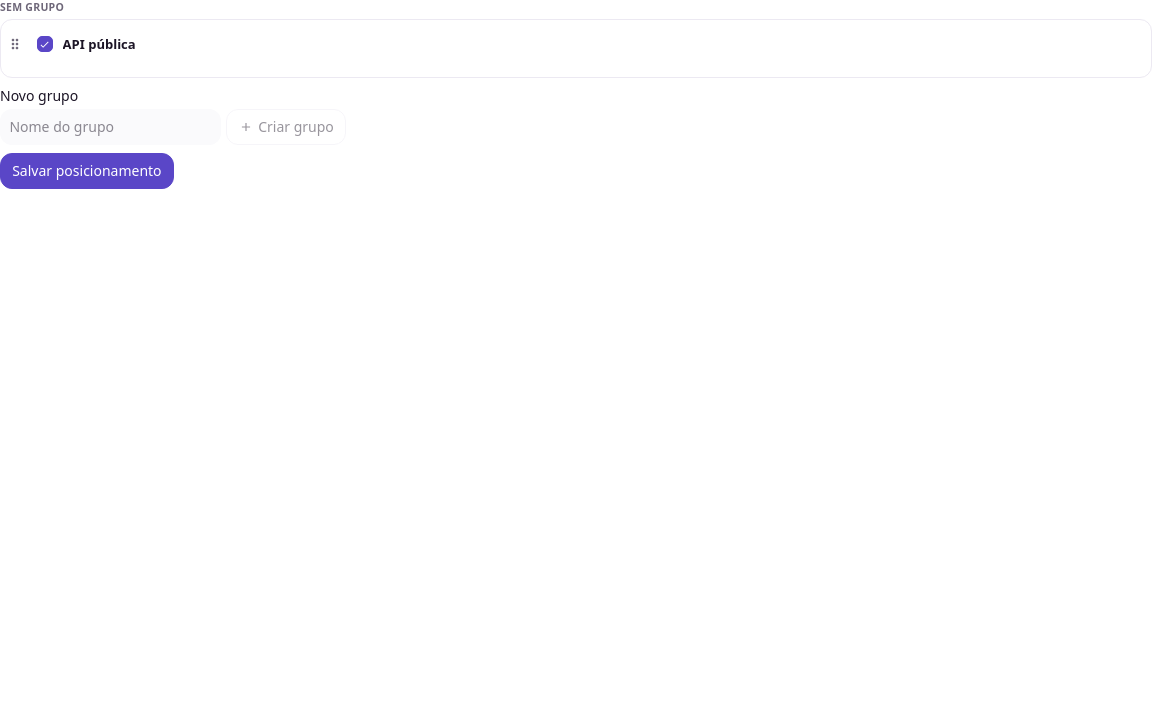
Scenario: ServiceGroupPanel › deletes a group after confirmation, leaving it ungrouped server-side (M3)
The width and height of the screenshot is (1152, 720).
Type "Pagamentos" into the field labelled "Novo grupo" at point(110, 127), box [0,109,221,145]
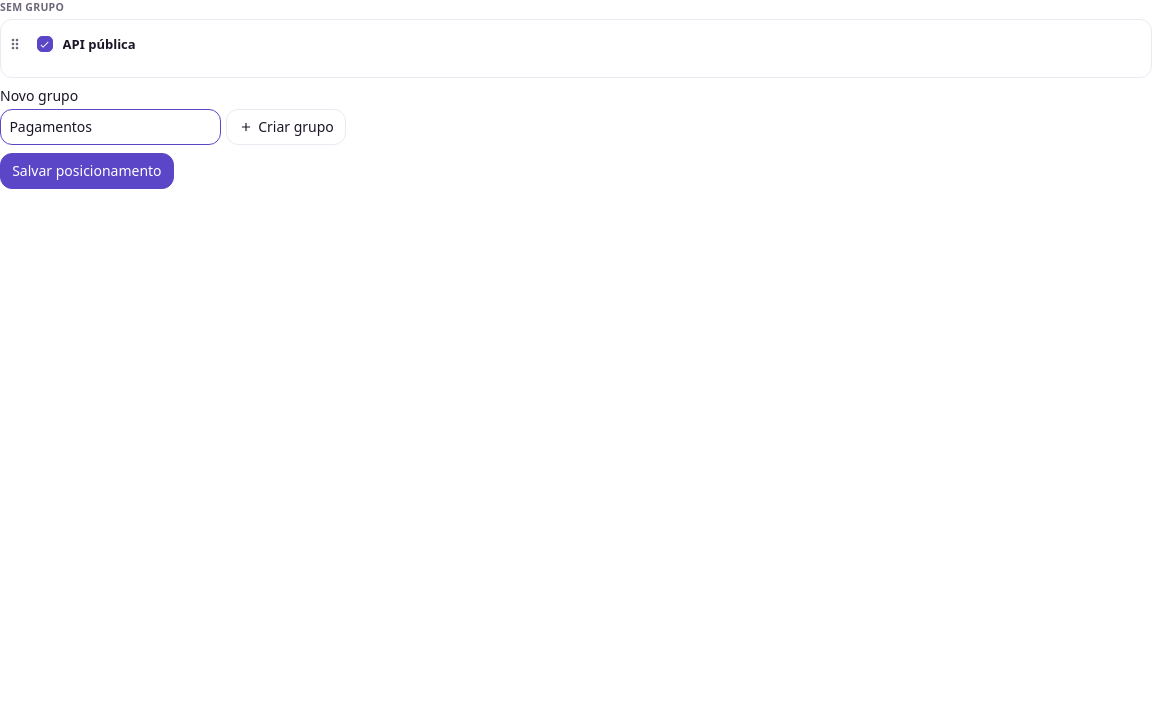
Click the button "Criar grupo" at point(286, 127), box [226,109,346,145]
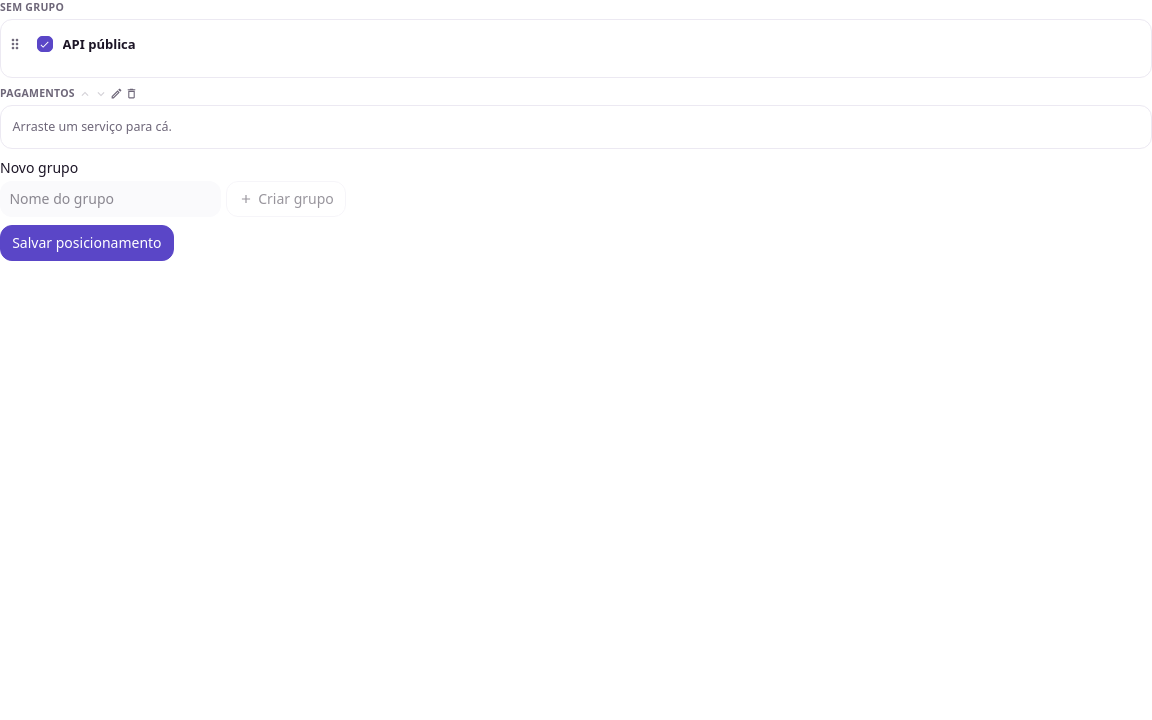
Check: the text "Pagamentos" is shown, box [0,86,75,102]
Click the button named "Excluir Pagamentos" at point(131, 94), box [125,87,138,100]
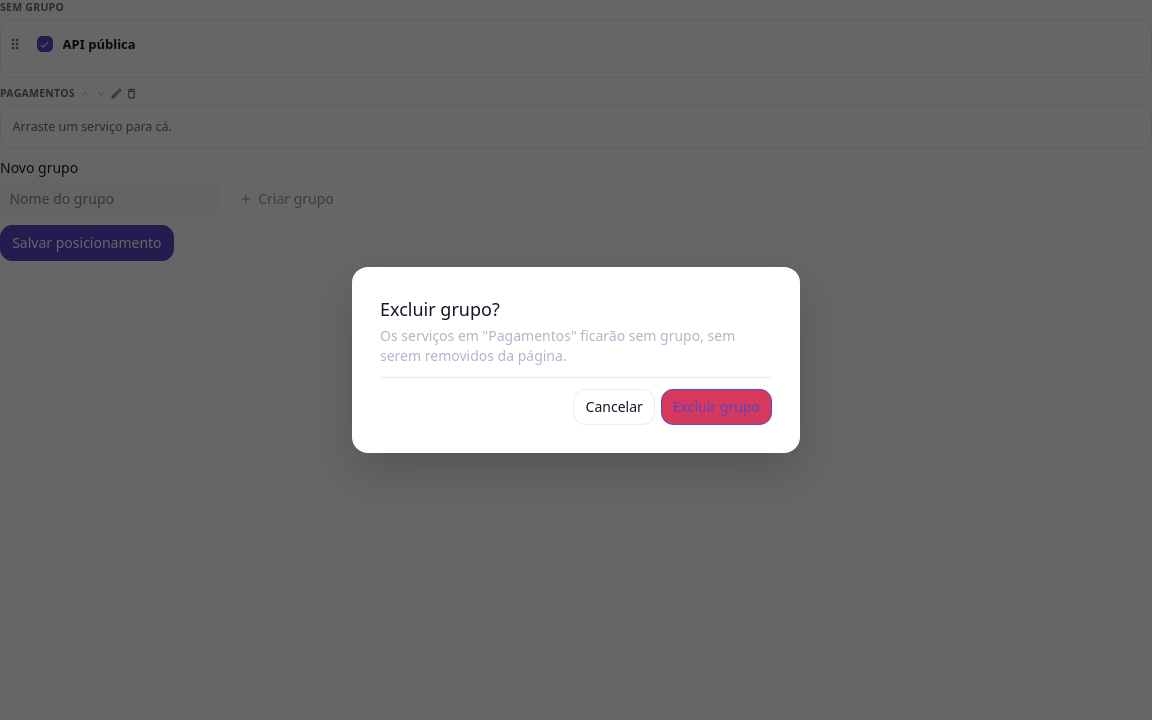
Check: the heading "Excluir grupo?" is shown, box [380,297,500,321]
Click the button "Excluir grupo" at point(716, 407), box [661,389,772,425]
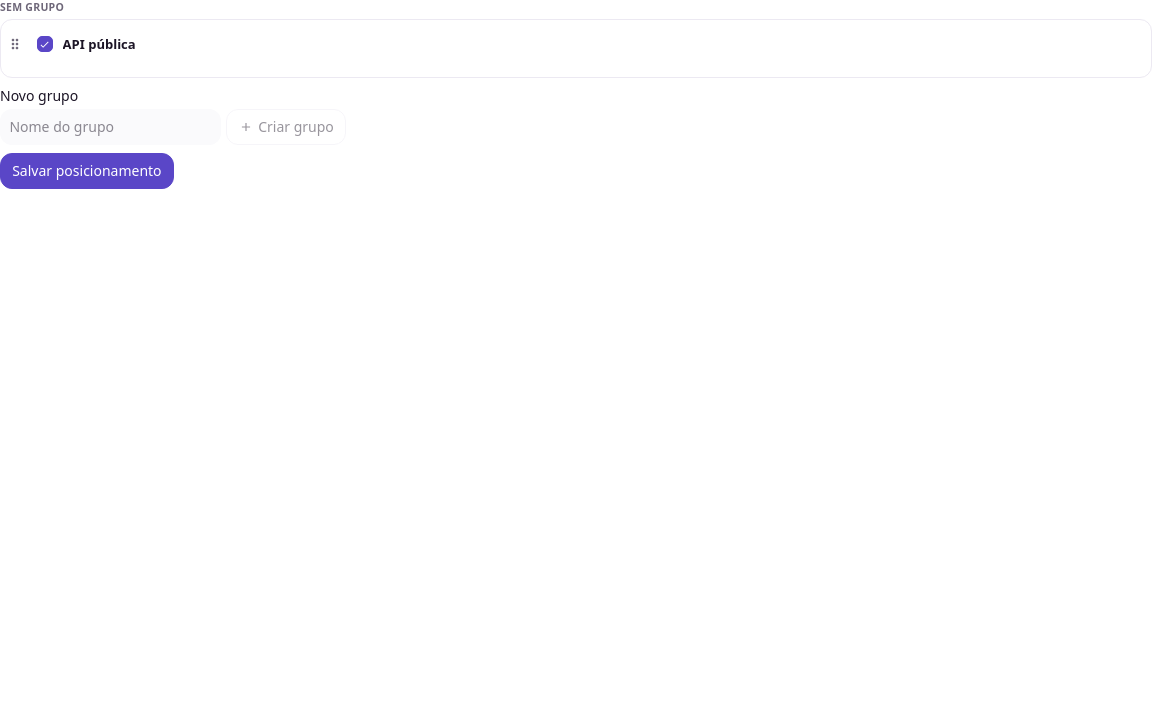
Check: the text "Pagamentos" is gone
